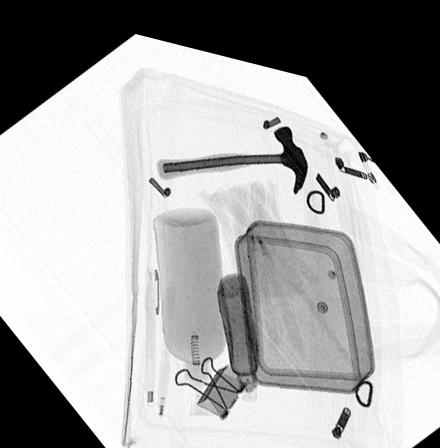Hammer: (154, 110, 308, 178)
